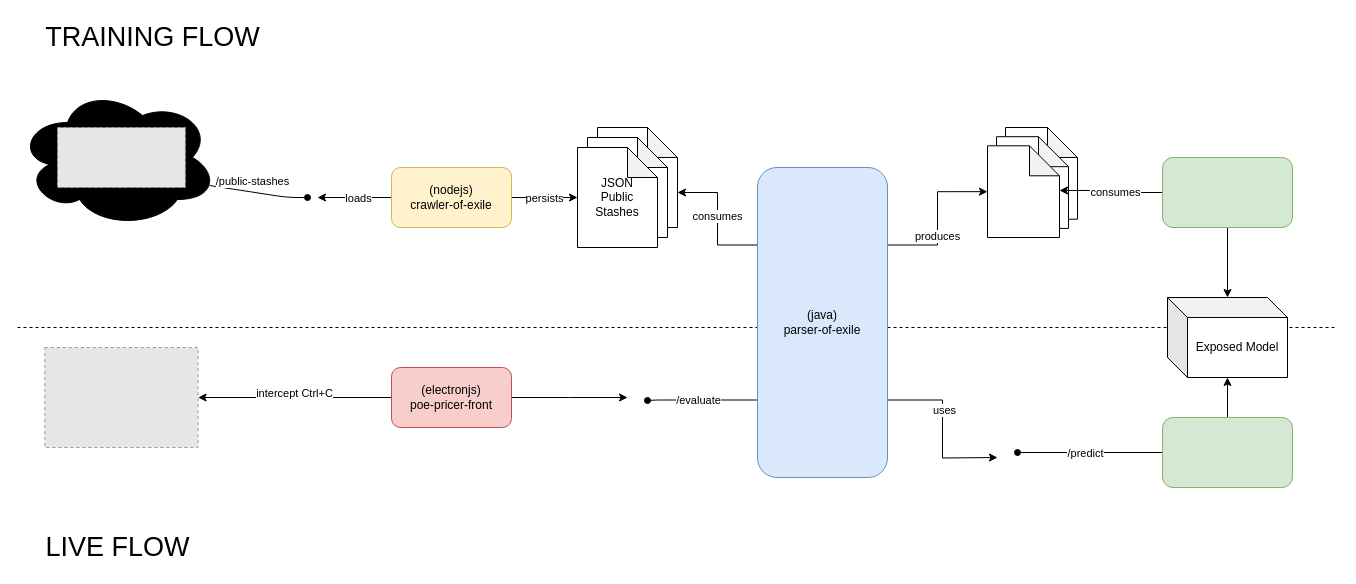
Some shapes in this 1356 by 584 pixel diagram are drawn without their labels. Grey dashed boxes stand in for pictures. Here are the shapes that lost their labels. From the top down, the centre of each, then its label:
the point at 1023,191: JSON Model Items
the point at 1227,192: (python) model-trainer
the point at 1227,452: (python) model-exposer
